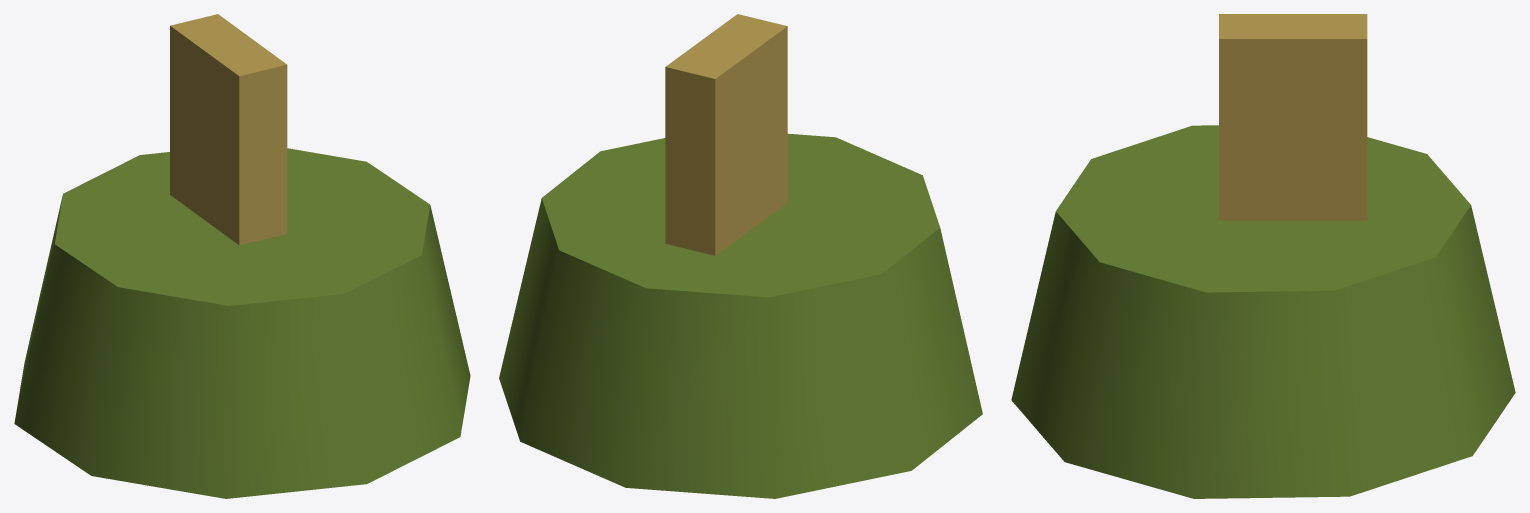
File: head.glb
The picture shows the model from 3 angles, left to right: view 1: azimuth 30°, elevation 25°; view 2: azimuth 150°, elevation 25°; view 3: azimuth 270°, elevation 25°; orthographic projection. The views are drawn at different scales.
Parts seen in each view (by area): view 1: helmet, crest; view 2: helmet, crest; view 3: helmet, crest.
Boxes of the visible parts, <box> form: helmet: <box>14,148,470,498</box>; crest: <box>170,14,287,245</box>; helmet: <box>499,133,982,498</box>; crest: <box>665,14,787,255</box>; helmet: <box>1011,125,1515,498</box>; crest: <box>1219,14,1367,220</box>.
Size of the model in its own units: 0.6537 by 0.55 by 0.6796.
